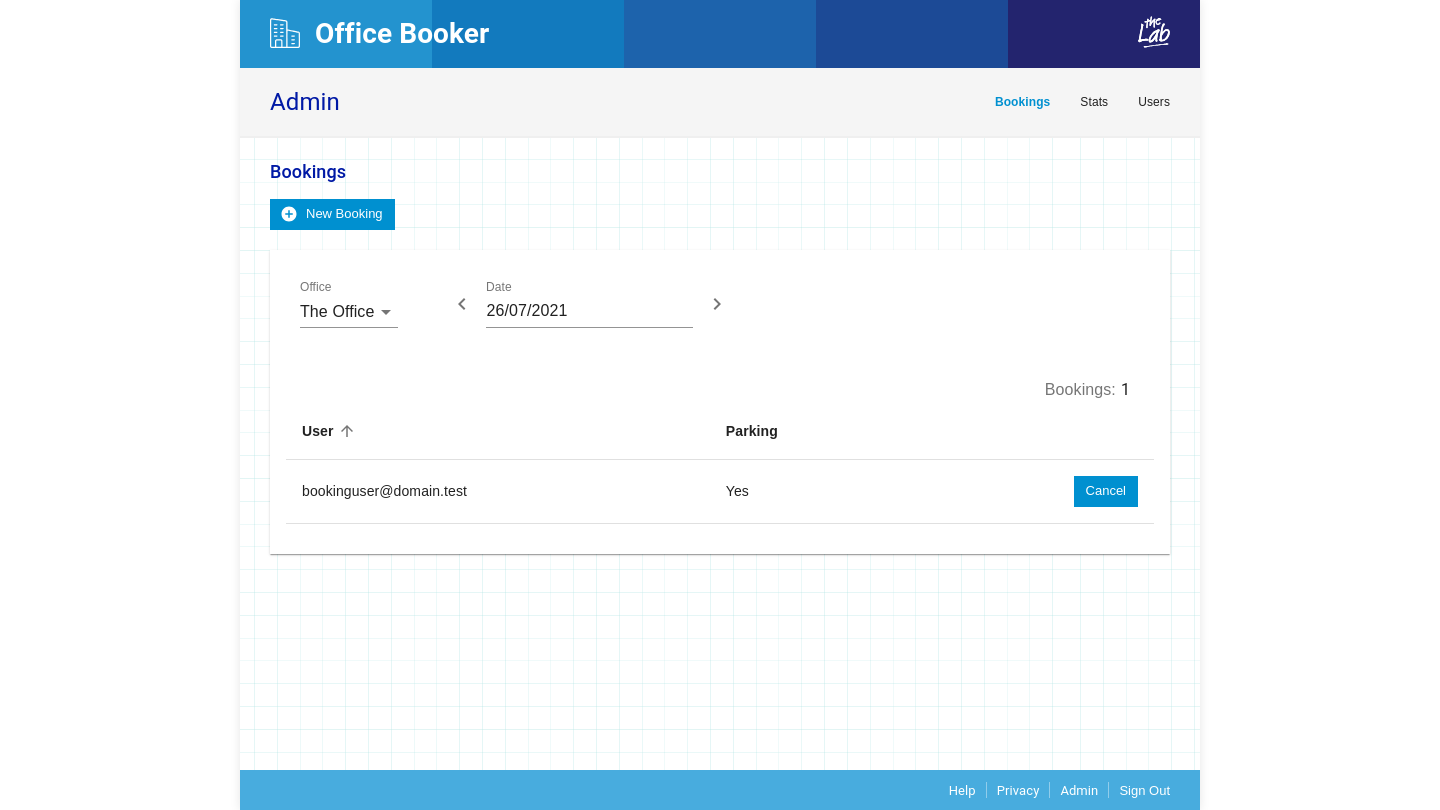
Test: Can cancel booking
Click the button "Cancel" at (1106, 491), box [1074,476,1138,507]
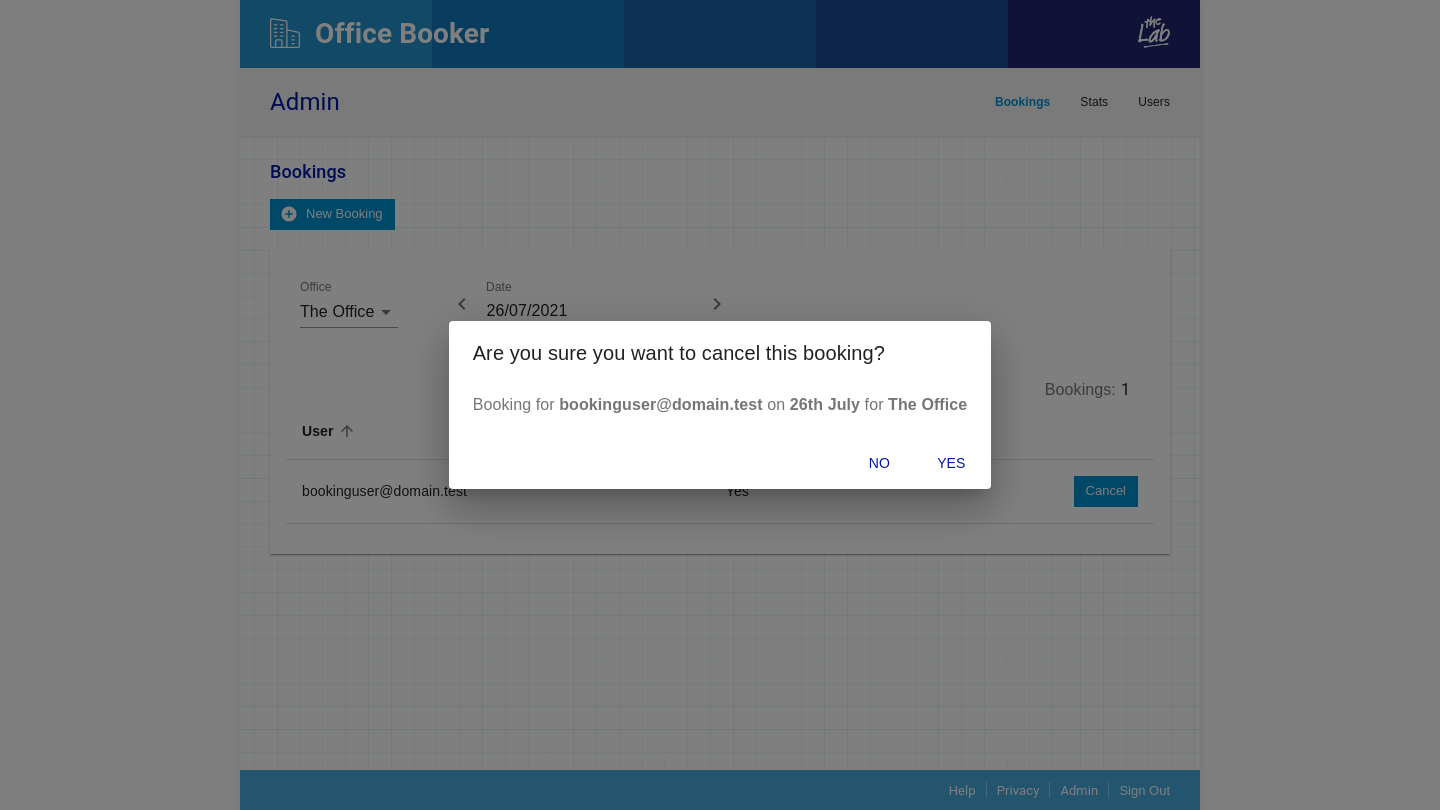
Click the button "Yes" at (951, 463), box [919,445,983,481]
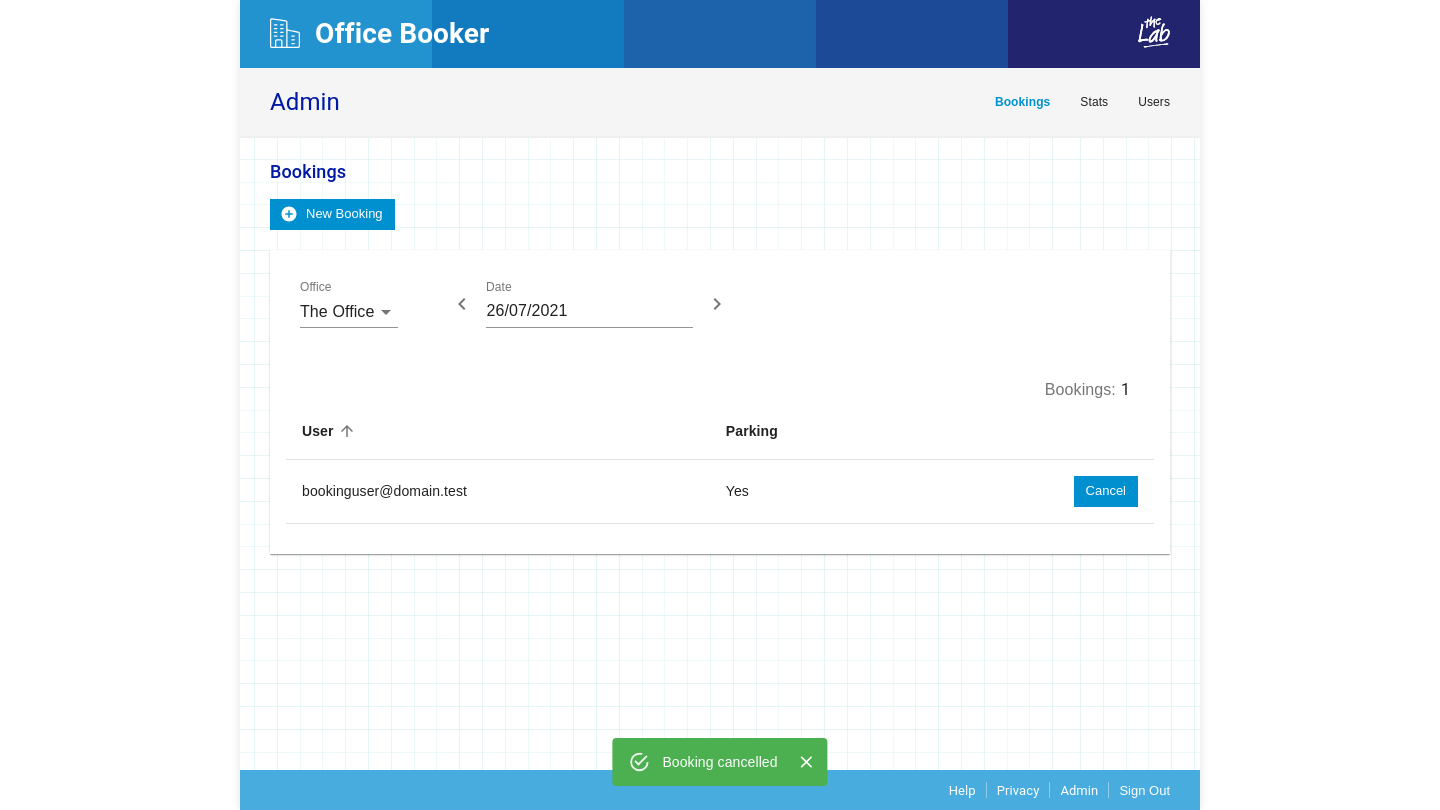
Check: the text "Booking cancelled" is shown, box [662,754,778,770]
